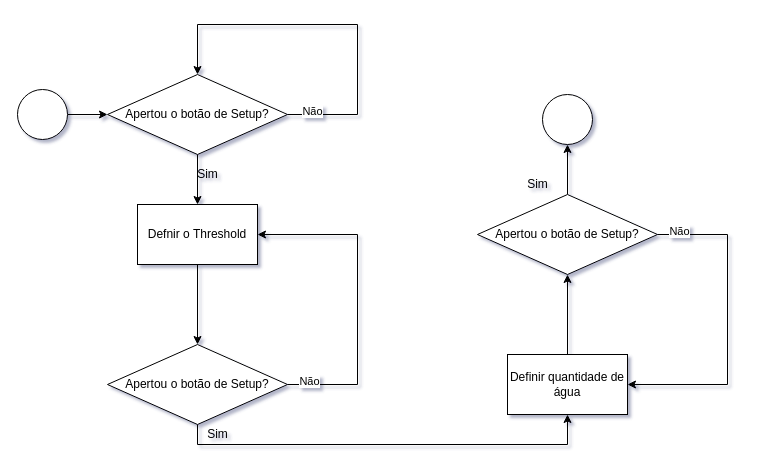
This 759x476 diagram has some shape labels left out. The shapes that lost their labels are listed below. From the top down, each one's centre as x and y in pixels, then its label:
the point at 42,114: Inicio Setup
the point at 567,119: Fim Setup
